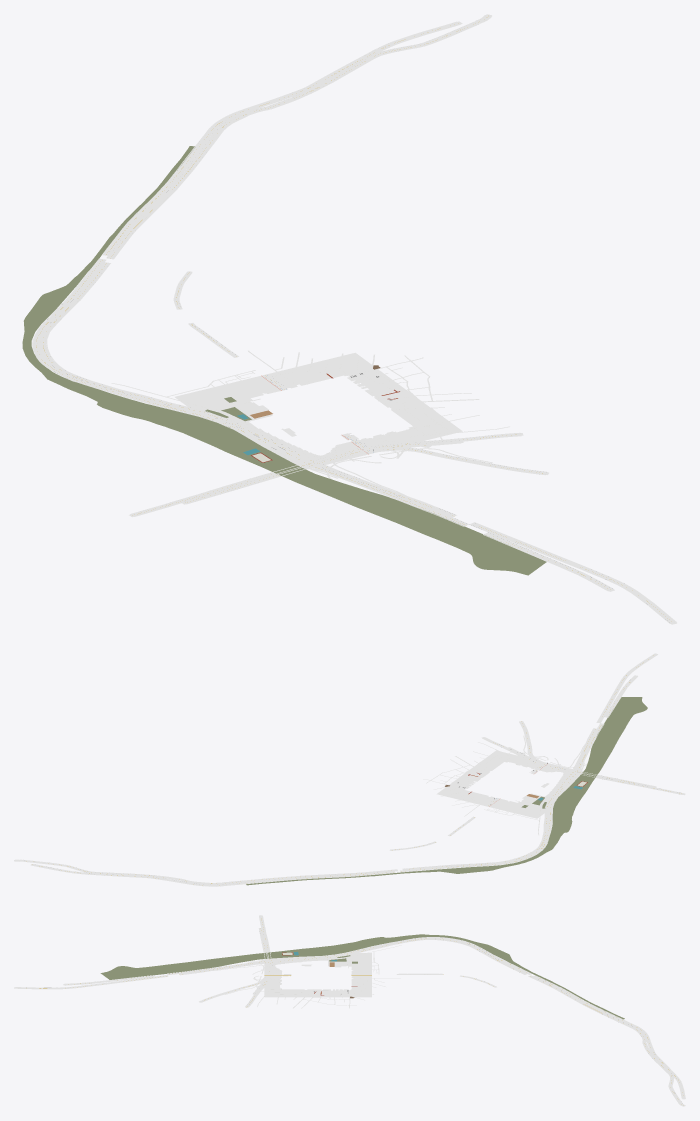
Rendered from a3_ground.glb.
3 renders of one model, top to bottom at view 1: azimuth 30°, elevation 25°; view 2: azimuth 150°, elevation 25°; view 3: azimuth 270°, elevation 25°, orthographic. The views are drawn at different scales.
Parts seen in each view (by area): view 1: a3_ground; view 2: a3_ground; view 3: a3_ground.
Boxes of the visible parts, x1=… form: a3_ground: x1=22, y1=14, x2=676, y2=624; a3_ground: x1=14, y1=653, x2=685, y2=886; a3_ground: x1=14, y1=915, x2=685, y2=1106.
Size of the model in its own units: 3706 by 9.61 by 5496.
